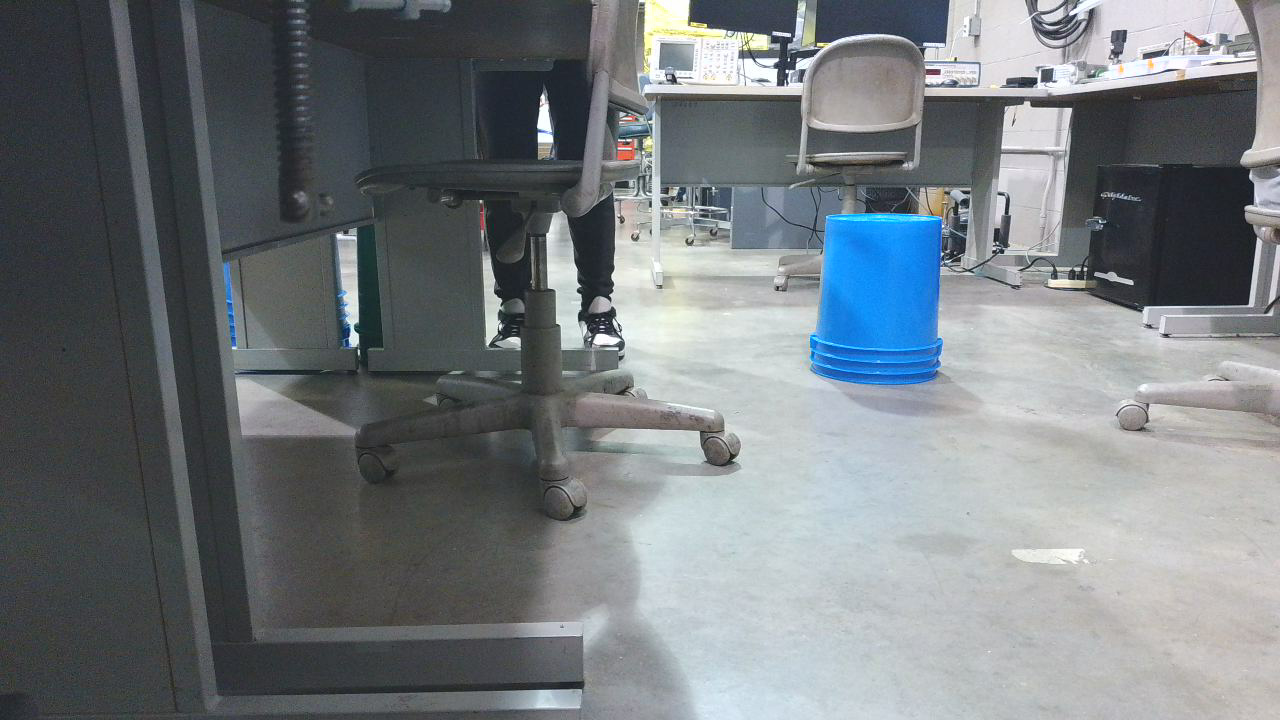blue_bucket: (810, 214, 958, 395)
